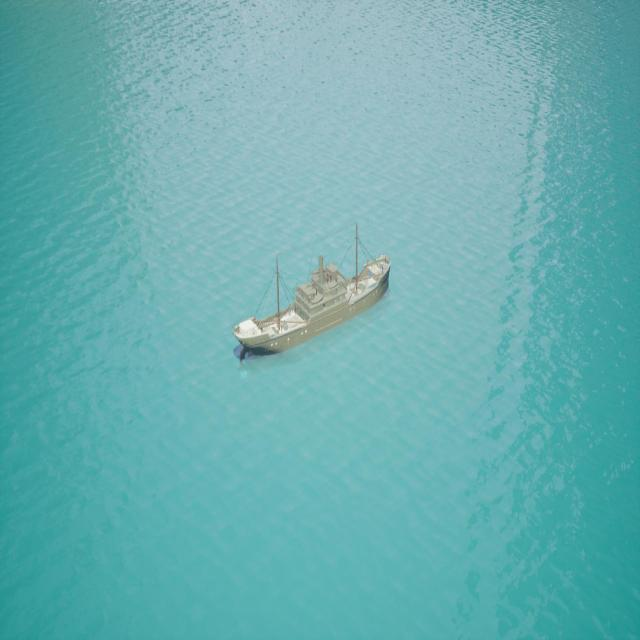fishing ship: (234, 240, 392, 361)
